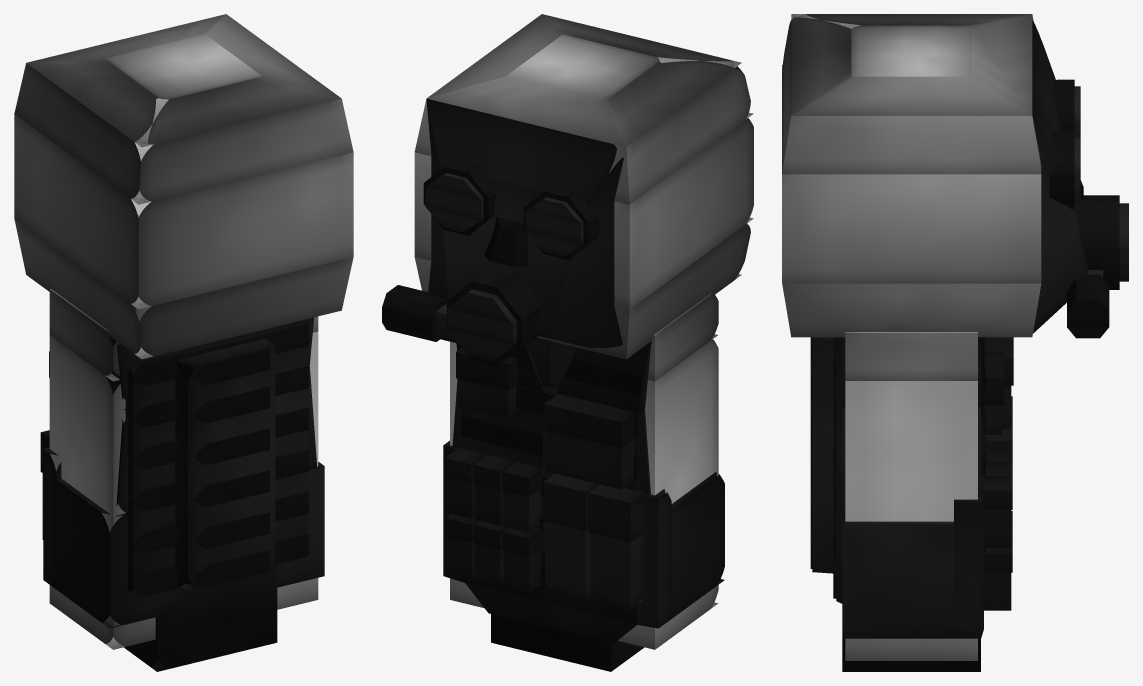
The model's file is hazmat.obj.
3 views of the same model, side by side, from view 1: azimuth 30°, elevation 25°; view 2: azimuth 150°, elevation 25°; view 3: azimuth 270°, elevation 25° (orthographic). The views are drawn at different scales.
Parts seen in each view (by area): view 1: headModel2, headModel1, headModel0, headModel3, bodyModel43, bodyModel0, bodyModel10, bodyModel36, leftBootModel0, bodyModel4, bodyModel39, bodyModel24 (+13 smaller); view 2: headModel7, headModel1, headModel2, bodyModel0, headModel0, headModel3, bodyModel10, leftBootModel0, bodyModel24, bodyModel19, bodyModel34, bodyModel50 (+46 smaller); view 3: headModel2, headModel1, bodyModel0, headModel0, bodyModel10, headModel3, headModel7, bodyModel5, bodyModel43, bodyModel25, headModel4, bodyModel36 (+15 smaller).
Part boxes in pixels (box(x1,y1,x2,y2)): headModel2: box(14, 114, 353, 309); headModel1: box(26, 14, 341, 147); headModel0: box(14, 63, 353, 204); headModel3: box(14, 200, 353, 359); bodyModel43: box(175, 338, 275, 590); bodyModel0: box(49, 331, 318, 649); bodyModel10: box(43, 462, 324, 628); bodyModel36: box(106, 319, 307, 599); leftBootModel0: box(124, 564, 277, 671); bodyModel4: box(49, 289, 119, 381); bodyModel39: box(129, 324, 308, 388); bodyModel24: box(43, 447, 61, 584); headModel7: box(426, 98, 623, 353); headModel1: box(427, 14, 741, 147); headModel2: box(414, 118, 753, 309); bodyModel0: box(450, 339, 718, 649); headModel0: box(414, 57, 753, 204); headModel3: box(414, 223, 750, 359); bodyModel10: box(544, 472, 724, 627); leftBootModel0: box(491, 542, 644, 671); bodyModel24: box(637, 489, 671, 628); bodyModel19: box(465, 583, 636, 643); bodyModel34: box(546, 431, 634, 489); bodyModel50: box(590, 532, 643, 609); headModel2: box(782, 174, 1041, 283); headModel1: box(791, 14, 1032, 115); bodyModel0: box(845, 381, 977, 660); headModel0: box(782, 14, 1041, 174); bodyModel10: box(842, 520, 980, 638); headModel3: box(782, 283, 1041, 337); headModel7: box(1032, 20, 1088, 333); bodyModel5: box(845, 332, 977, 380); bodyModel43: box(812, 337, 835, 573); bodyModel25: box(954, 493, 983, 638); headModel4: box(1076, 195, 1119, 247); bodyModel36: box(836, 337, 842, 603).
Size of the model in its own units: 8.6 by 21.6 by 11.5.
